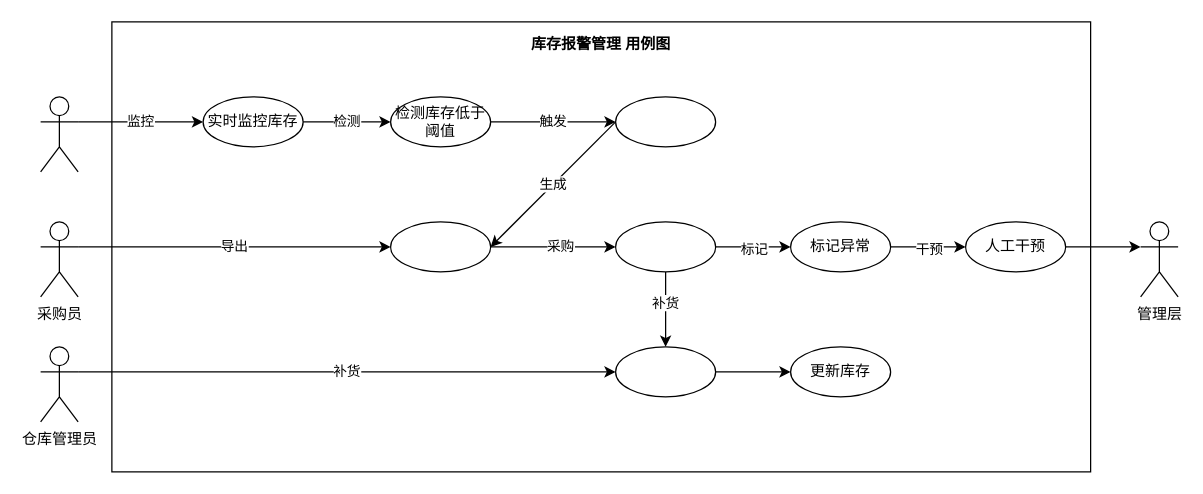
This 1203x494 diagram has some shape labels left out. The shapes that lost their labels are listed below. From the top down, each one's centre as x and y in pixels, then its label:
At [58,134]: "系统".
At [665,121]: "库存报警".
At [440,246]: "生成补货订单".
At [665,246]: "货物采购".
At [665,371]: "确认补货".
